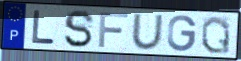F: (97, 11, 131, 49)
G: (166, 14, 198, 53)
L: (31, 9, 58, 45)
Q: (200, 14, 232, 55)
S: (63, 8, 97, 49)
U: (130, 13, 165, 51)
